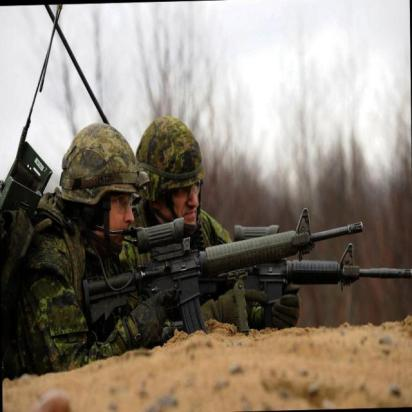Gun: (84, 223, 364, 346)
